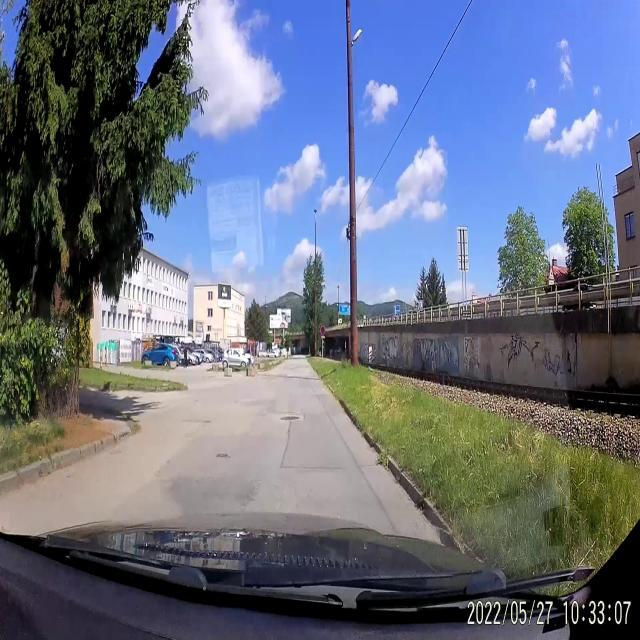Manhole: (279, 408, 303, 426)
Pothole: (217, 445, 230, 465)
